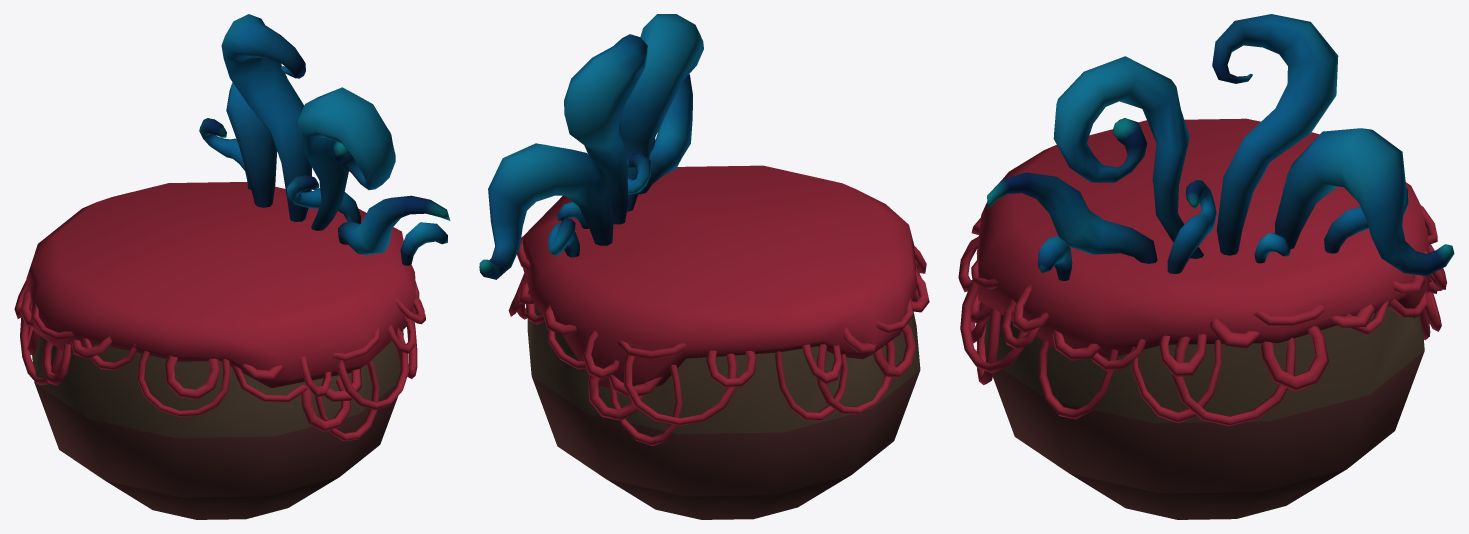
Rendered from Alien_Island20.fbx.
3 views of the same model, side by side, from view 1: azimuth 30°, elevation 25°; view 2: azimuth 150°, elevation 25°; view 3: azimuth 270°, elevation 25° (orthographic). The views are drawn at different scales.
Parts seen in each view (by area): view 1: Alien_Island20; view 2: Alien_Island20; view 3: Alien_Island20.
Boxes of the visible parts, x1,y1,x2,y2 form: Alien_Island20: [14, 14, 450, 519]; Alien_Island20: [479, 14, 929, 519]; Alien_Island20: [958, 14, 1454, 519].
Bounding box in the file's own units: 5818 × 6737 × 5912.
